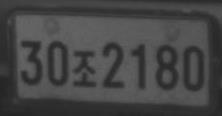0: (182, 46, 204, 90), (47, 41, 68, 86)
1: (129, 44, 150, 88)
2: (102, 42, 124, 89)
3: (20, 39, 42, 86)
8: (154, 44, 179, 90)
조: (72, 50, 97, 88)
